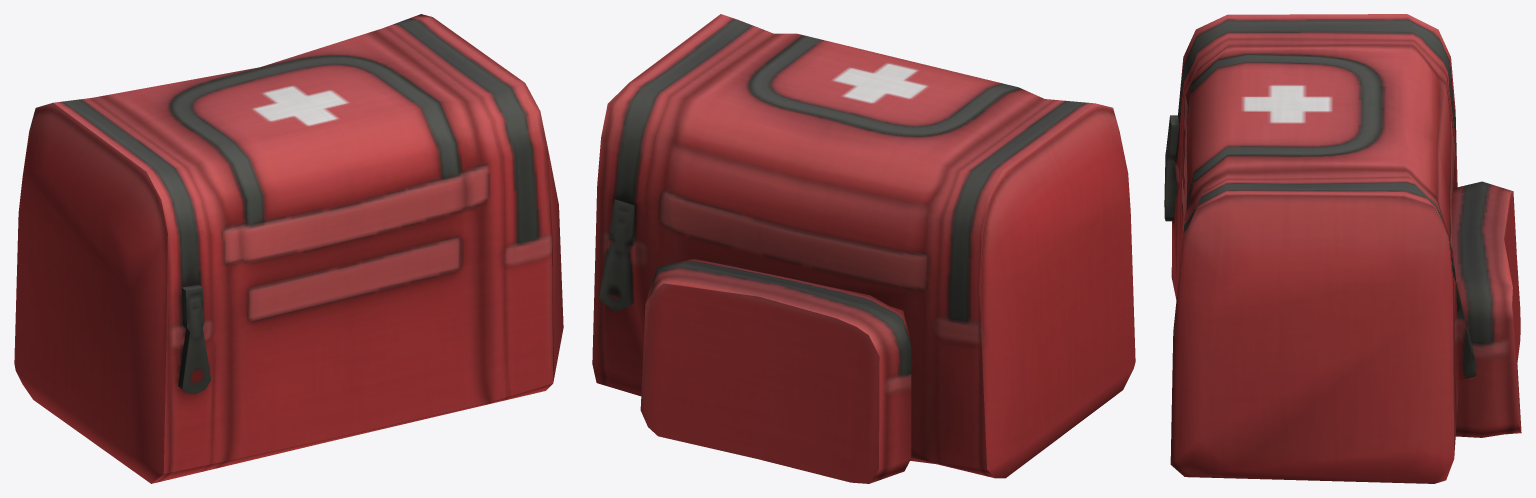
The model's file is Prfb_MedicalBag.fbx.
The picture shows the model from 3 angles, left to right: view 1: azimuth 30°, elevation 25°; view 2: azimuth 150°, elevation 25°; view 3: azimuth 270°, elevation 25°; orthographic projection. The views are drawn at different scales.
Parts seen in each view (by area): view 1: Mat_Medicalbox; view 2: Mat_Medicalbox; view 3: Mat_Medicalbox.
Boxes of the visible parts, x1,y1,x2,y2 form: Mat_Medicalbox: (14,14,563,483); Mat_Medicalbox: (592,14,1135,483); Mat_Medicalbox: (1164,14,1521,483).
Size of the model in its own units: 0.6553 by 0.4378 by 0.4888.
Materials: 1 (1 with a texture image).
